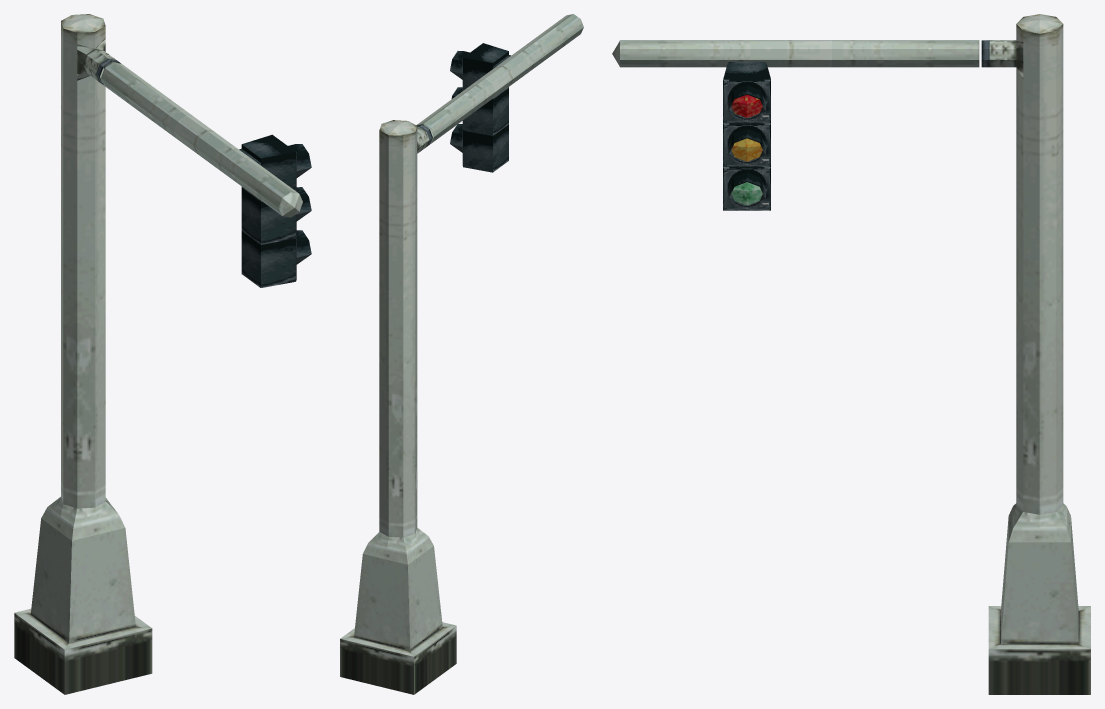
File: Urban_TrafficLightL_Model.fbx
The picture shows the model from 3 angles, left to right: view 1: azimuth 30°, elevation 25°; view 2: azimuth 150°, elevation 25°; view 3: azimuth 270°, elevation 25°; orthographic projection. The views are drawn at different scales.
Visible parts, largest first — view 1: Urban_TrafficLightL_Mesh; view 2: Urban_TrafficLightL_Mesh; view 3: Urban_TrafficLightL_Mesh.
Part boxes in pixels (bbox=[...]): Urban_TrafficLightL_Mesh: bbox=[14, 14, 311, 694]; Urban_TrafficLightL_Mesh: bbox=[340, 14, 583, 694]; Urban_TrafficLightL_Mesh: bbox=[612, 14, 1090, 694].
Size of the model in its own units: 1.08 by 5.66 by 3.76.
